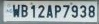character: (12, 4, 20, 18), (20, 4, 28, 18), (37, 4, 45, 18), (46, 4, 53, 18), (54, 4, 61, 18), (62, 4, 69, 18), (71, 4, 78, 18), (79, 4, 86, 18), (88, 4, 95, 18), (30, 4, 35, 18)
